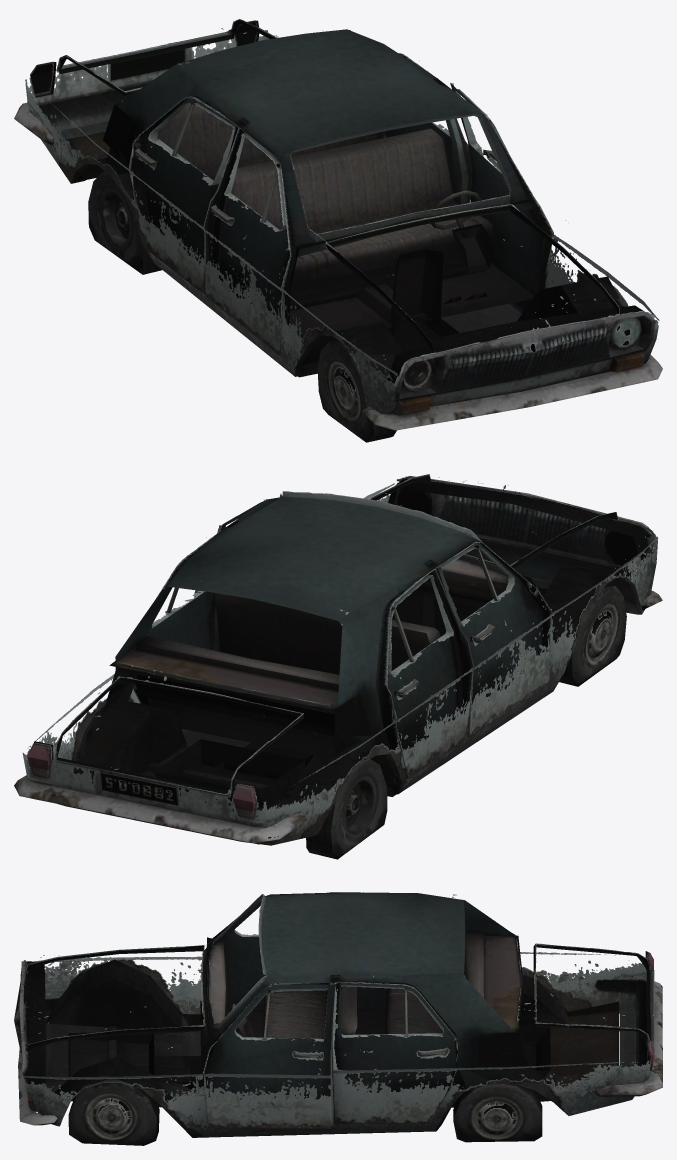
Rendered from car004a.fbx.
The picture shows the model from 3 angles, top to bottom: view 1: azimuth 30°, elevation 25°; view 2: azimuth 150°, elevation 25°; view 3: azimuth 270°, elevation 25°; orthographic projection. The views are drawn at different scales.
Parts seen in each view (by area): view 1: studiomesh_8; view 2: studiomesh_8; view 3: studiomesh_8.
Boxes of the visible parts, left/top/right/bottom form: studiomesh_8: left=14, top=19, right=662, bottom=442; studiomesh_8: left=14, top=474, right=662, bottom=859; studiomesh_8: left=14, top=892, right=662, bottom=1145.
Bounding box in the file's own units: 85.43 × 59.61 × 202.
